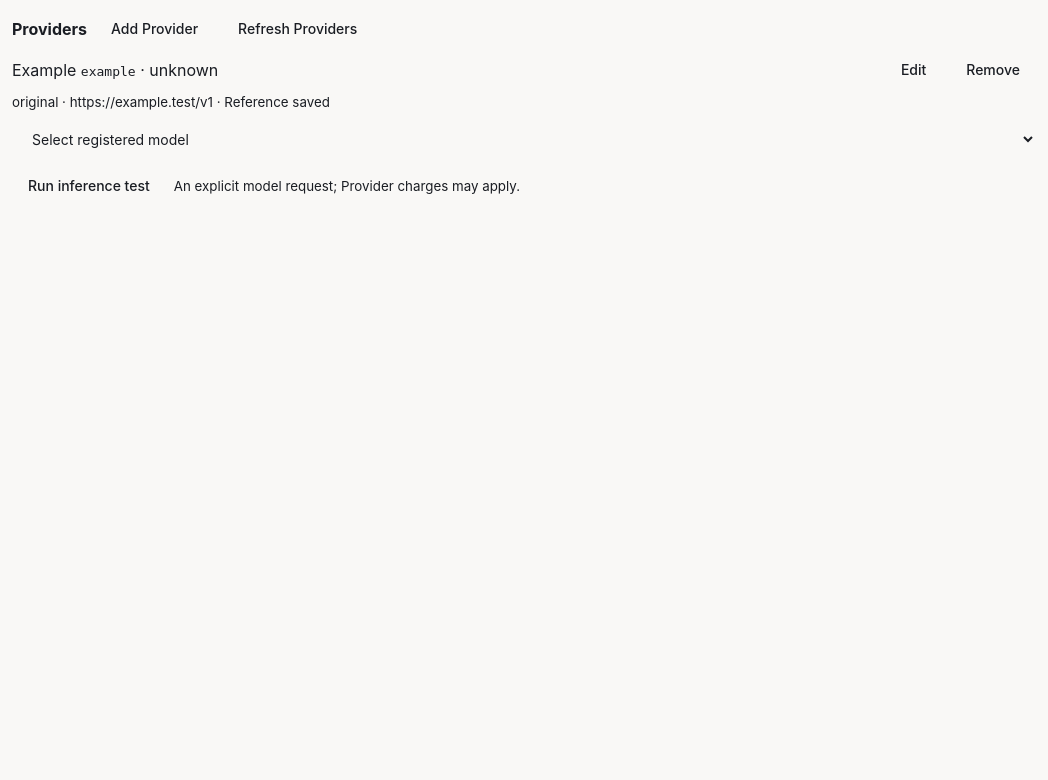
Test: Studio Provider configuration › patches only changed fields and preserves the hidden credential reference
This screenshot has width=1048, height=780.
Click the button with aria-label "Edit example". click: [914, 70]
box: [885,53,942,86]
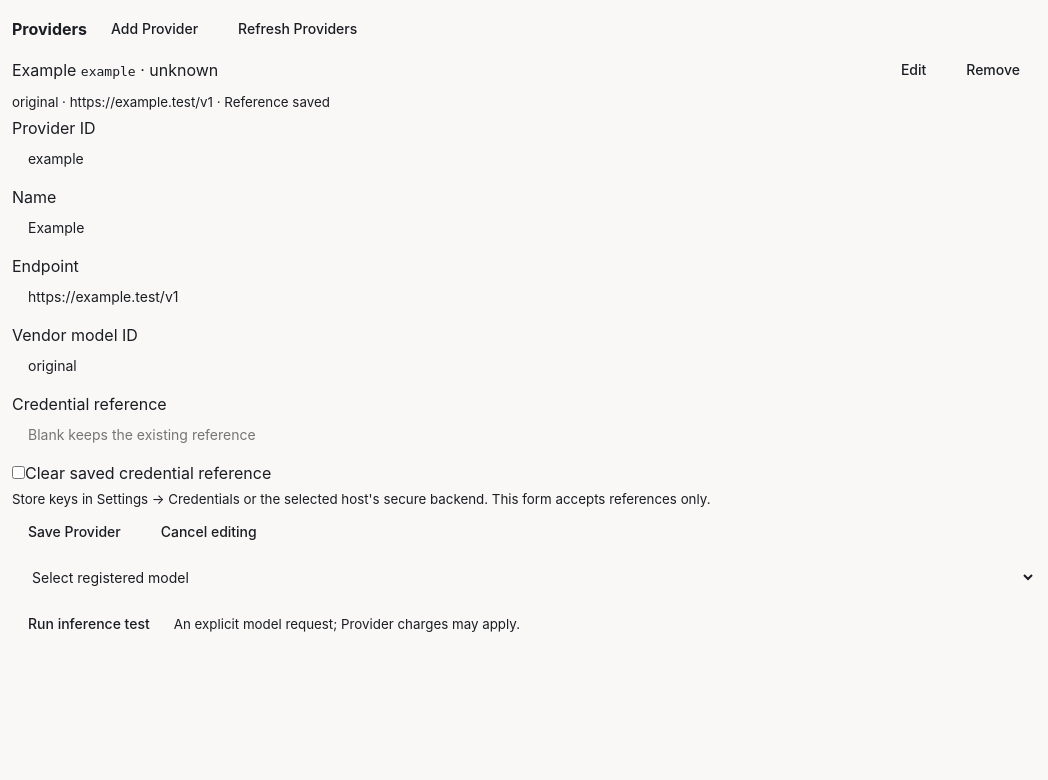
Expected: the field labelled "Credential reference" is empty, [12,414,1036,455]
Replace the text in the field labelled "Vendor model ID" with "changed-model". click: [524, 366]
box: [12,345,1036,386]
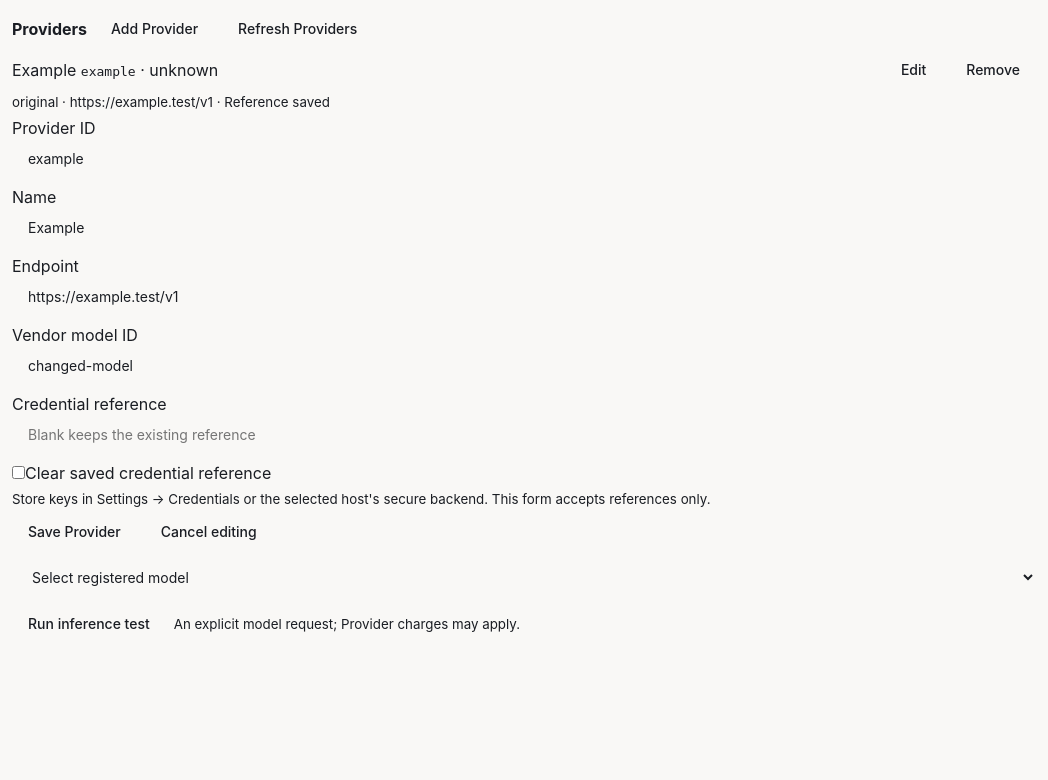
Click the button "Save Provider". click: [74, 532]
box: [12,515,137,548]
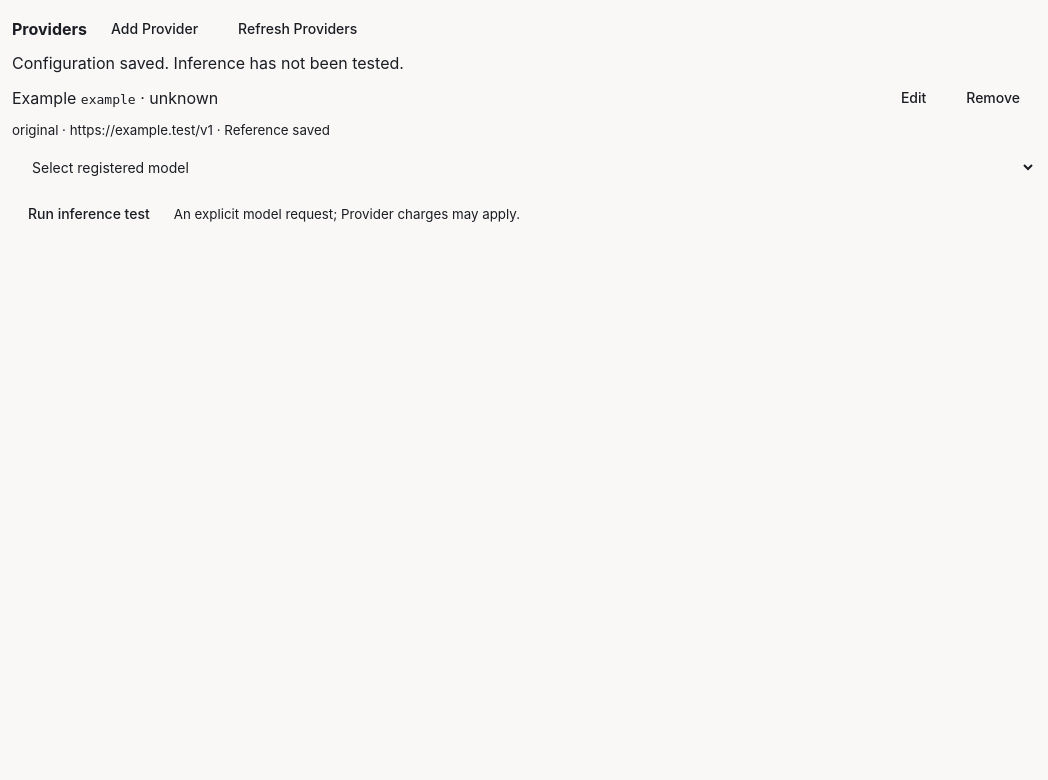
Expected: the message shows "Inference has not been tested", [12,53,404,73]
